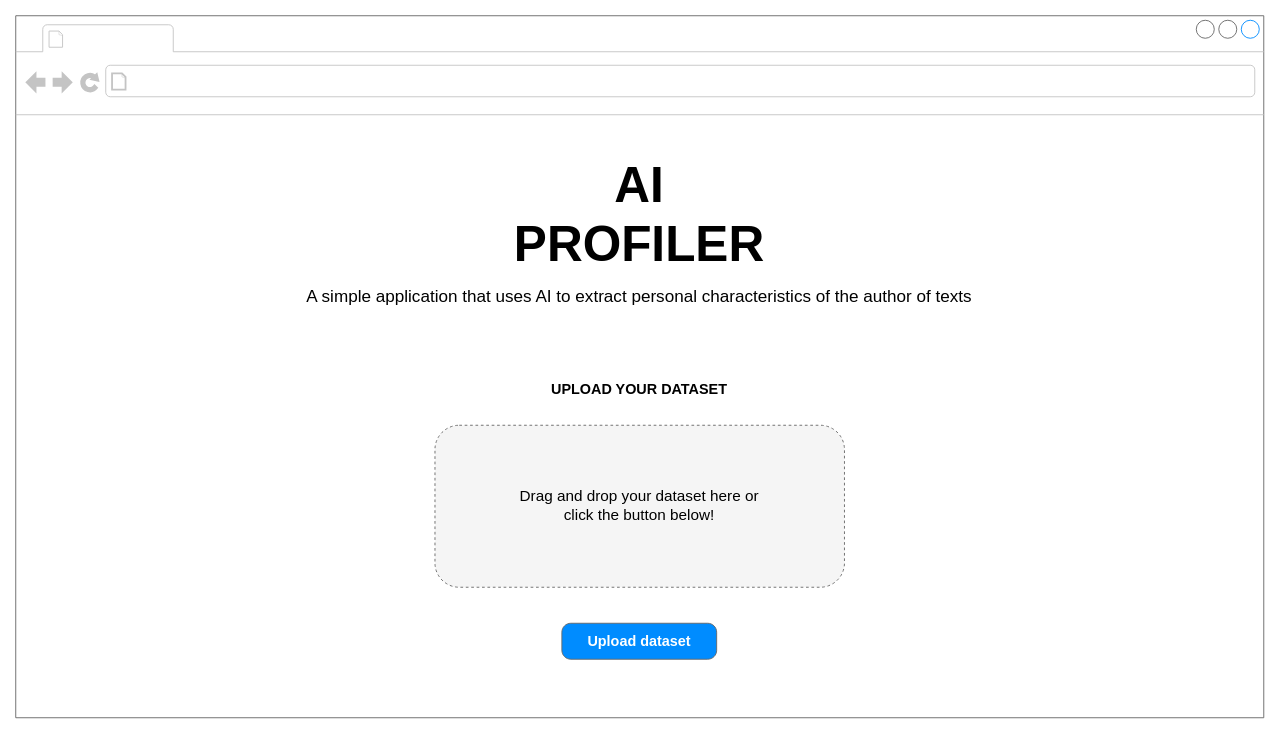
The diagram is 1280 pixels wide and 734 high, and some of its shapes have lost their labels. Here are the shapes that lost their labels. From the top down, the box of each, then its label:
(69, 26, 169, 50): Page 1
(132, 69, 358, 93): https://www.draw.io
